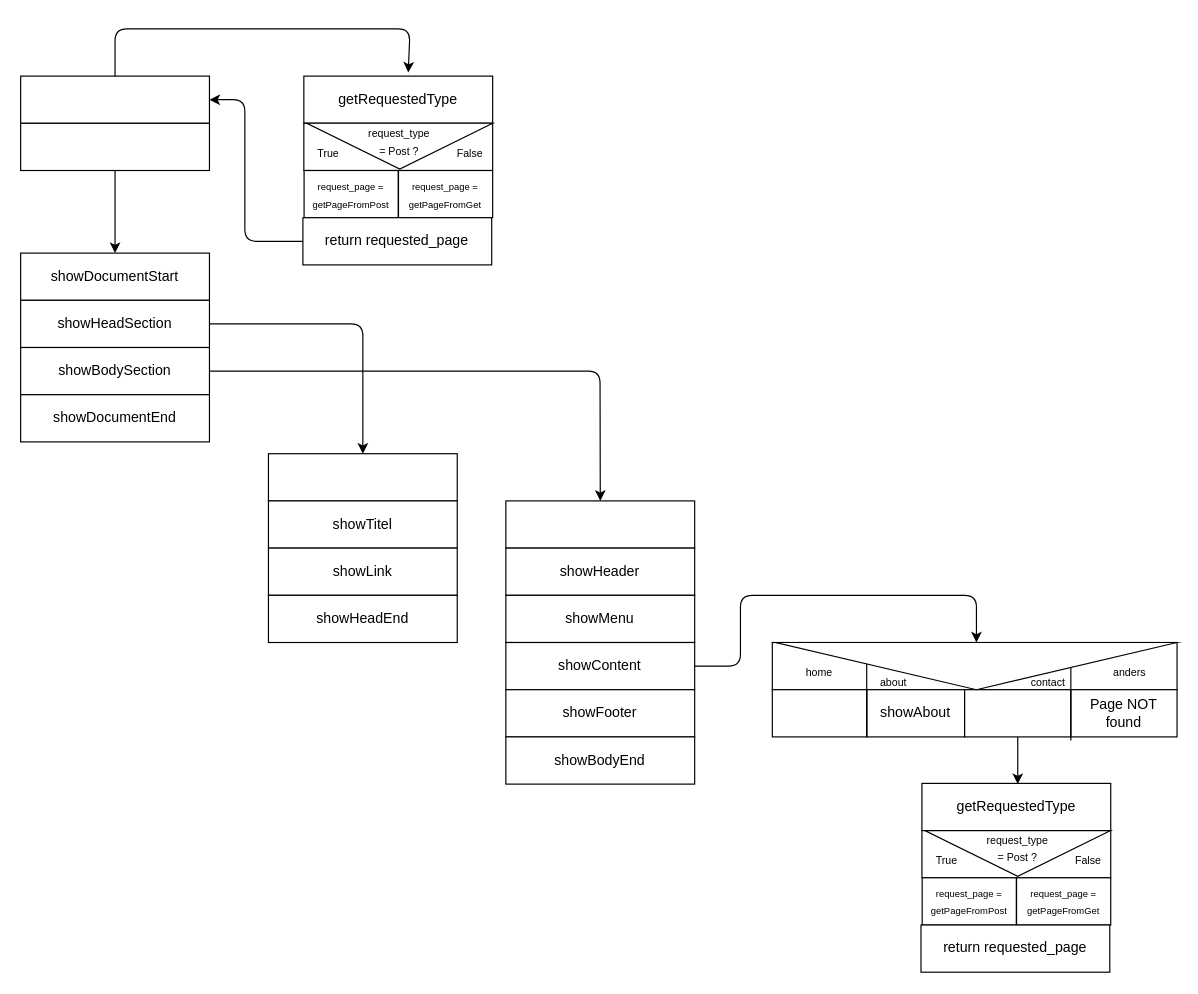
Some shapes in this 1198 by 994 pixel diagram are drawn without their labels. Each missing label, with the centre of its shape:
"getRequestedPage" belongs at point 114,99.
"showBodyStart" belongs at point 600,524.
"showContact" belongs at point 1017,713.
"showHeadStart" belongs at point 362,477.
"showHome" belongs at point 819,713.
"showResponsePage" belongs at point 114,146.
"switch" belongs at point 976,665.
